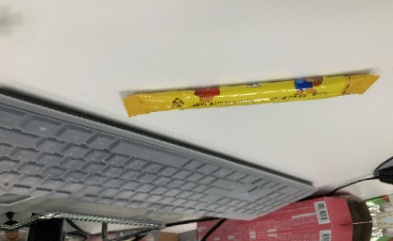jt: (120, 67, 382, 123)
